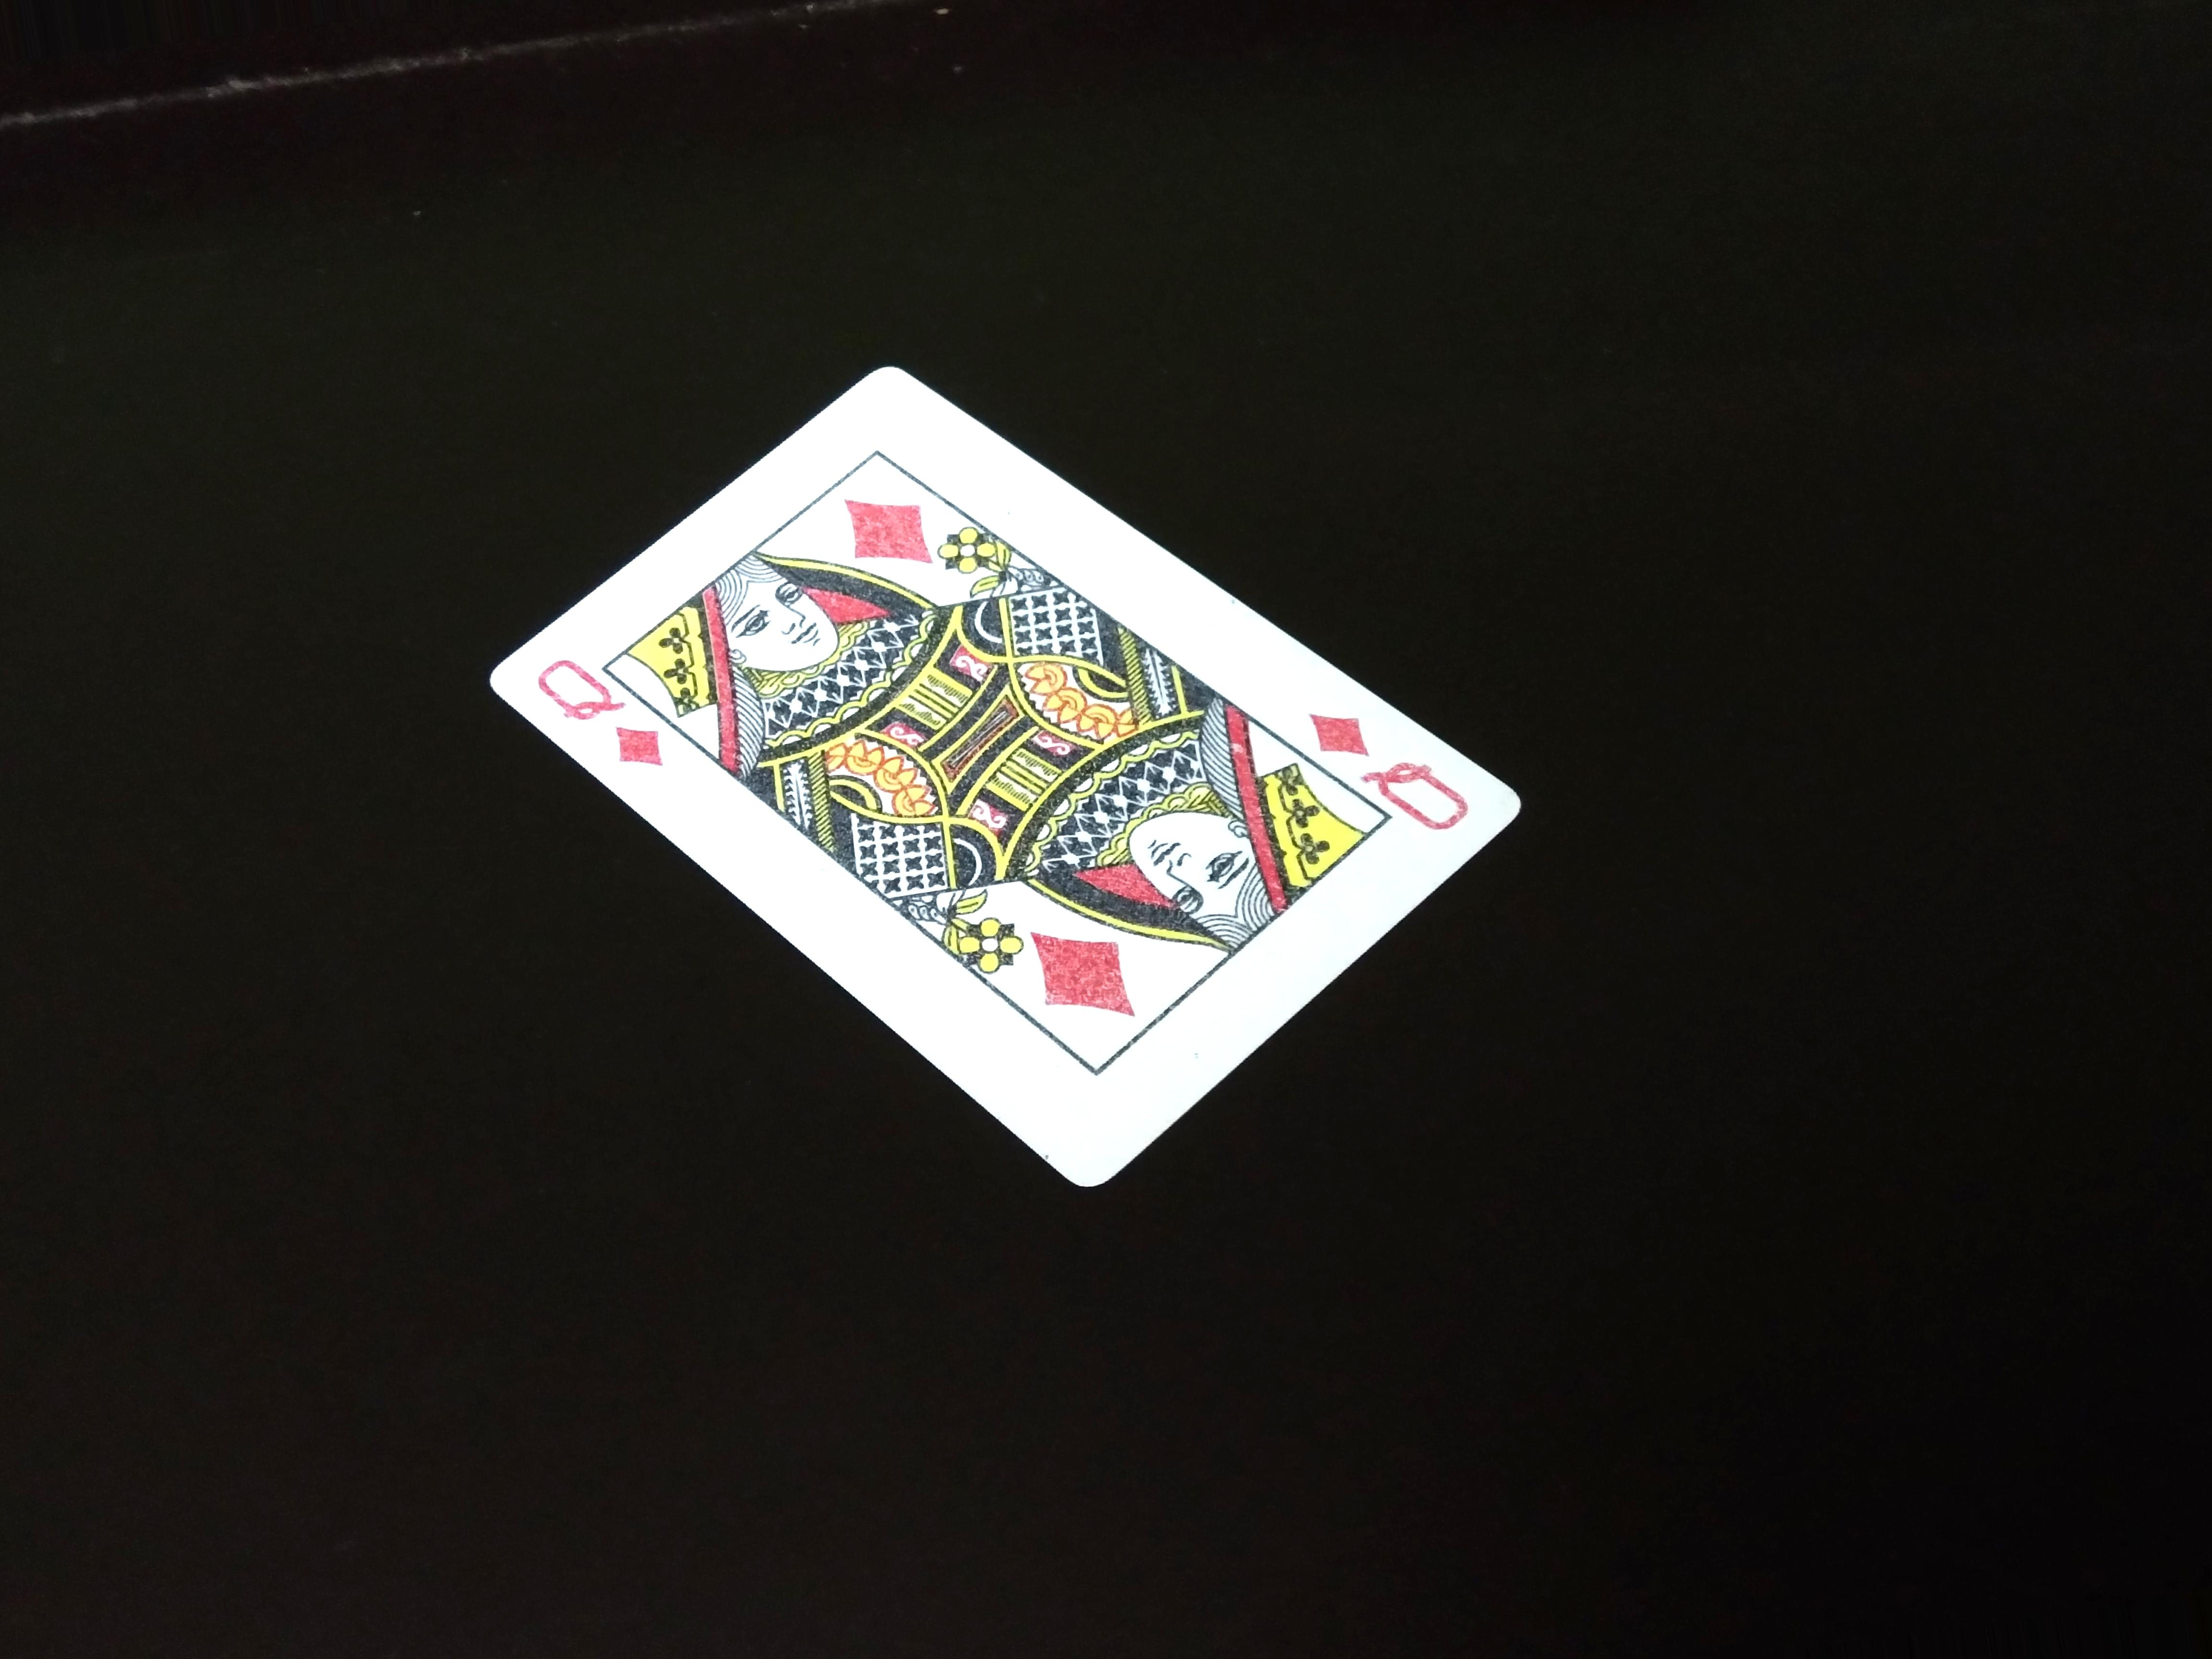QD: (1312, 692, 1472, 836)
